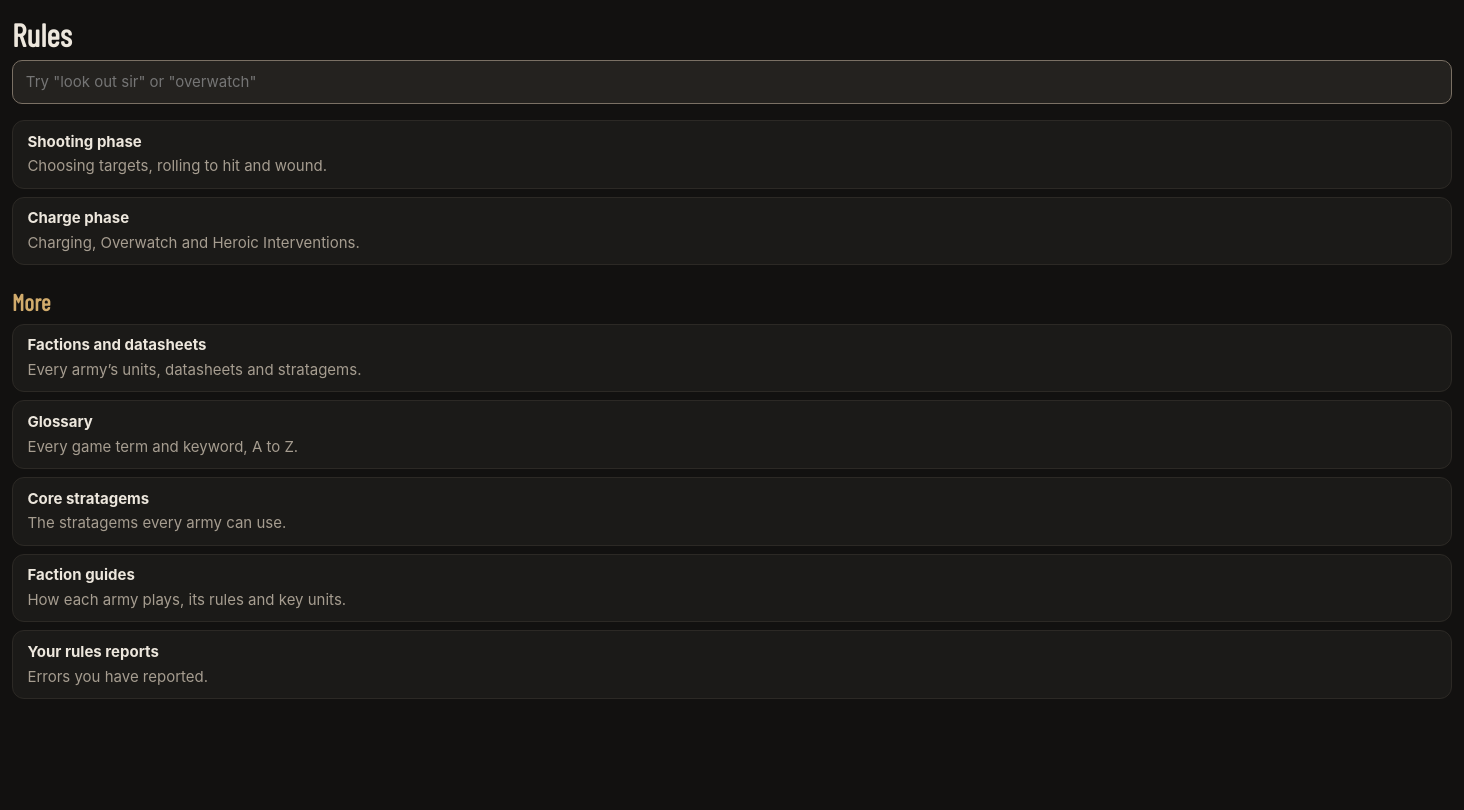
Scenario: a search with no hits says so
Type "zzzz" into the search field named "Search the rules" at (732, 82), box [12,60,1452,104]
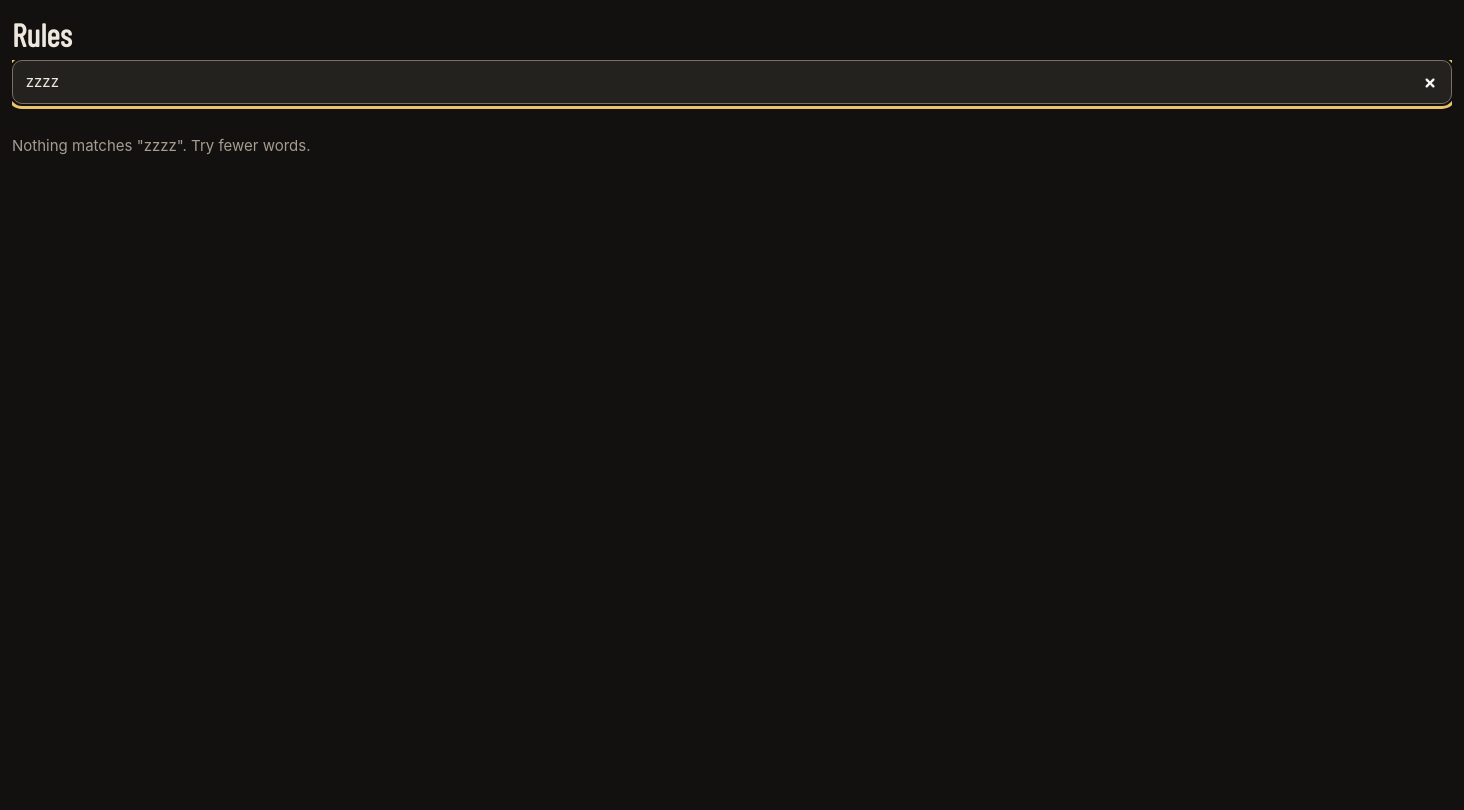
Check: the text "Nothing matches \"zzzz\". Try fewer words." is shown, box [12,136,310,155]
